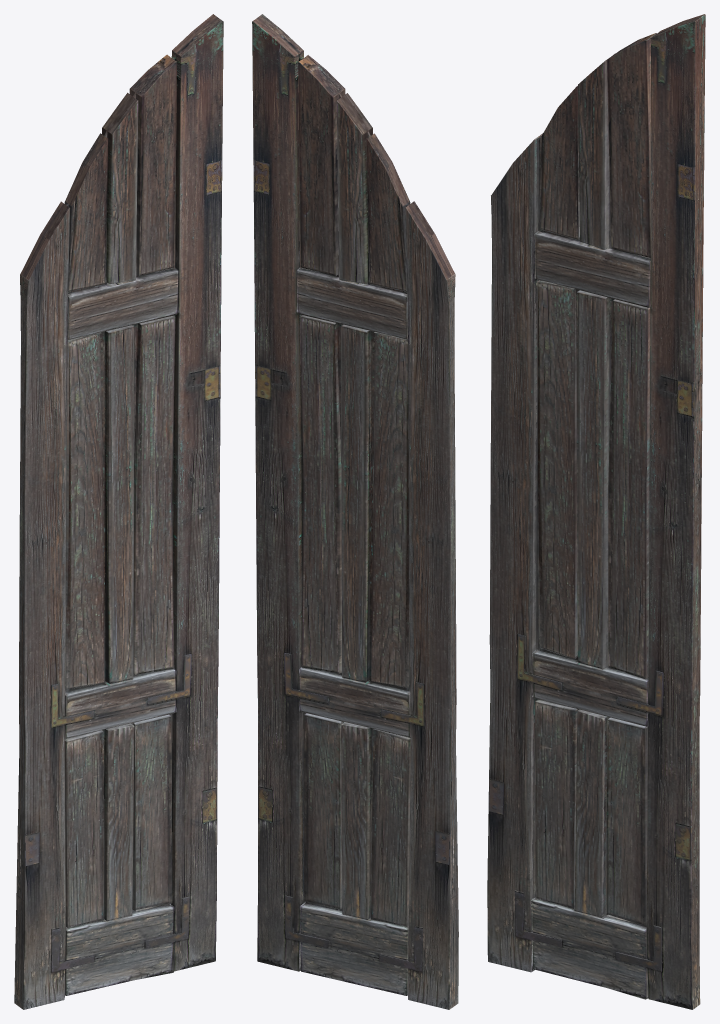
The model's file is SM_Door_01_03.fbx.
3 views of the same model, side by side, from view 1: azimuth 30°, elevation 25°; view 2: azimuth 150°, elevation 25°; view 3: azimuth 330°, elevation 25° (orthographic). The views are drawn at different scales.
Parts seen in each view (by area): view 1: sm_Door_01_03_LOD0; view 2: sm_Door_01_03_LOD0; view 3: sm_Door_01_03_LOD0.
Part boxes in pixels (x1,y1,x2,y2): sm_Door_01_03_LOD0: [14, 14, 223, 1009]; sm_Door_01_03_LOD0: [252, 14, 458, 1009]; sm_Door_01_03_LOD0: [487, 14, 705, 1009].
Size of the model in its own units: 7.49 by 68.62 by 311.
